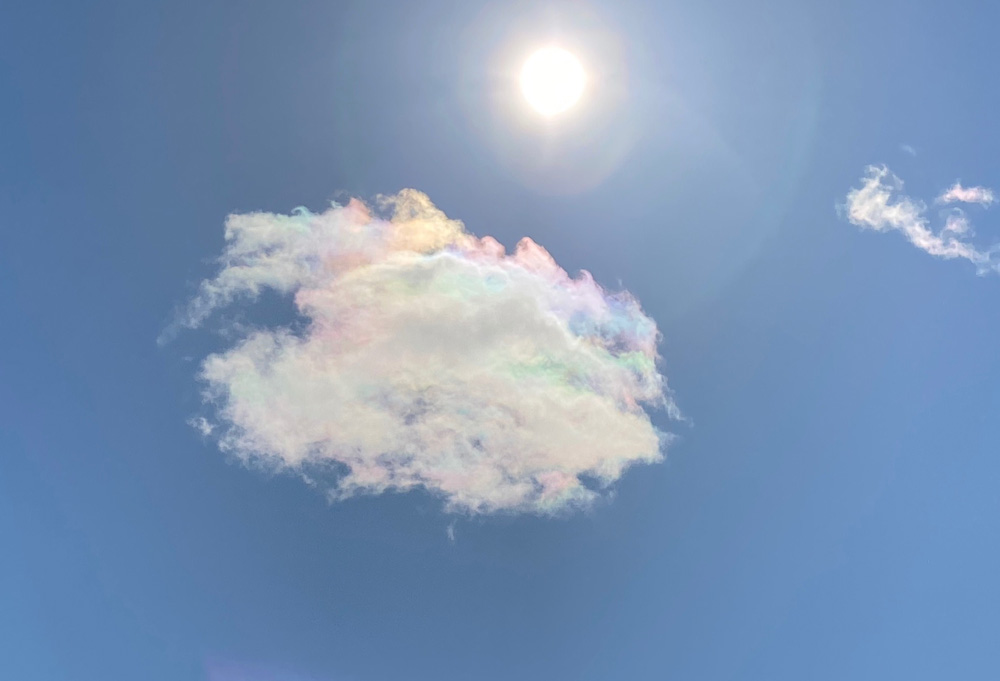Cirrus: (164, 143, 691, 558), (818, 122, 999, 308)
